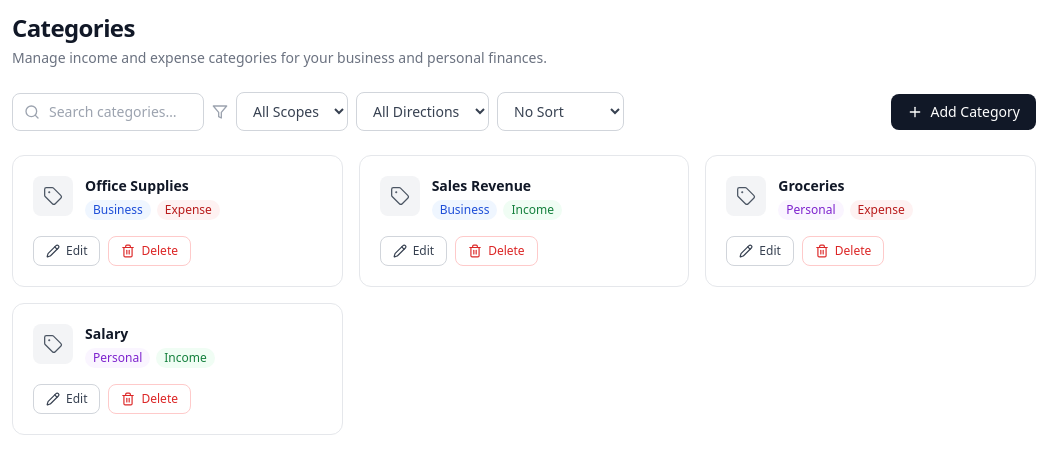
Test: CategoriesPage — filtering › filters by business scope
Expected: the heading "Office Supplies" is shown, [85, 176, 189, 195]
Select "Business" in the dropdown named "Filter by scope" at (292, 112), box [236, 92, 348, 131]
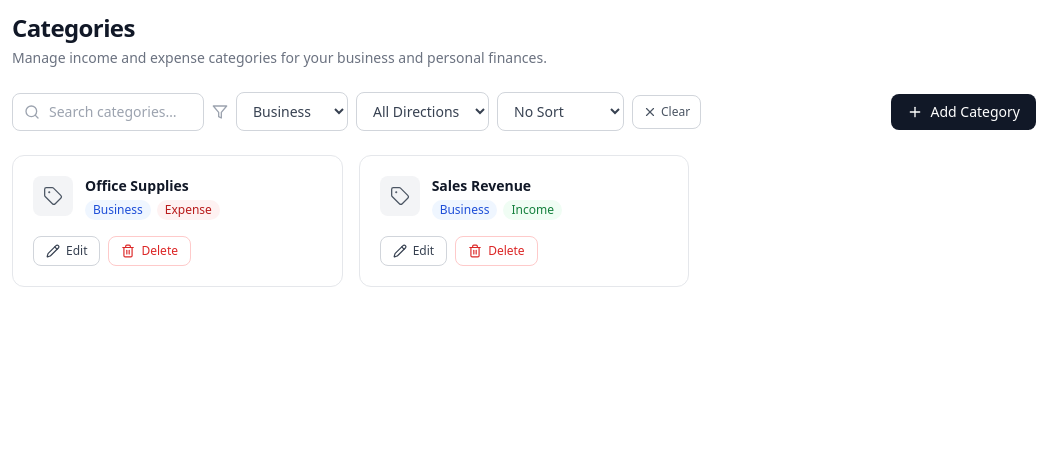
Expected: the heading "Office Supplies" is shown, [85, 176, 189, 195]
Now the heading "Groceries" is gone
Now the heading "Salary" is gone
